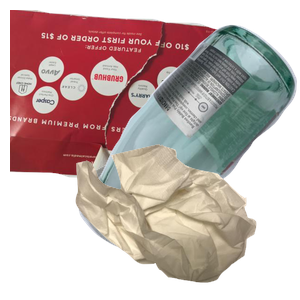glass: (86, 22, 300, 202)
paper: (10, 10, 238, 190)
plastic: (75, 154, 248, 300)
trash: (73, 142, 300, 300)
